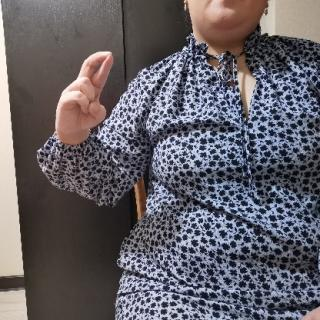ZAY: (51, 48, 121, 146)
